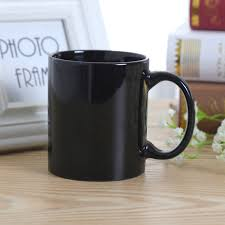mug: (43, 46, 201, 186)
